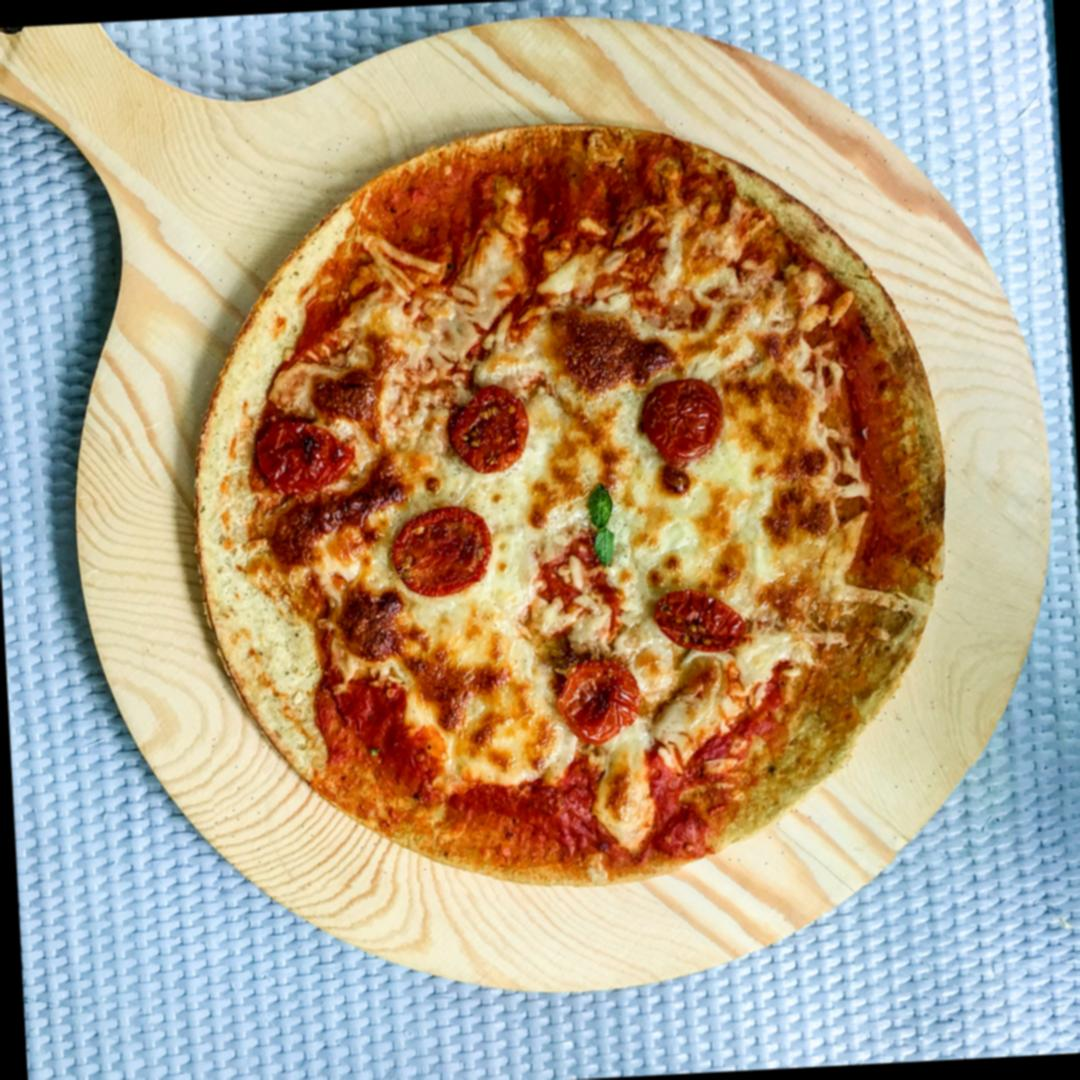Basil: (580, 479, 629, 568)
Pepperoni: (242, 415, 359, 498), (381, 504, 487, 587), (564, 312, 646, 401), (559, 646, 639, 730), (443, 391, 523, 474), (650, 386, 728, 466), (659, 593, 741, 650)
Pizza: (179, 105, 978, 894)
